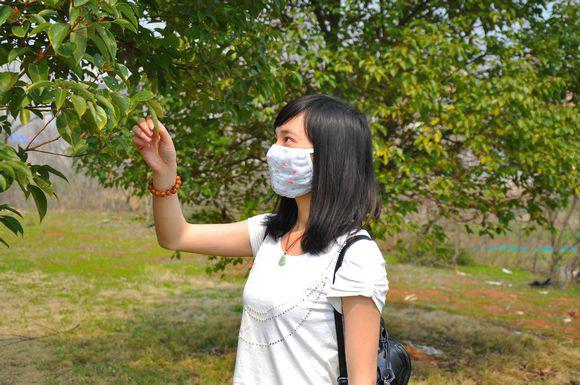OK: (266, 127, 331, 196)
